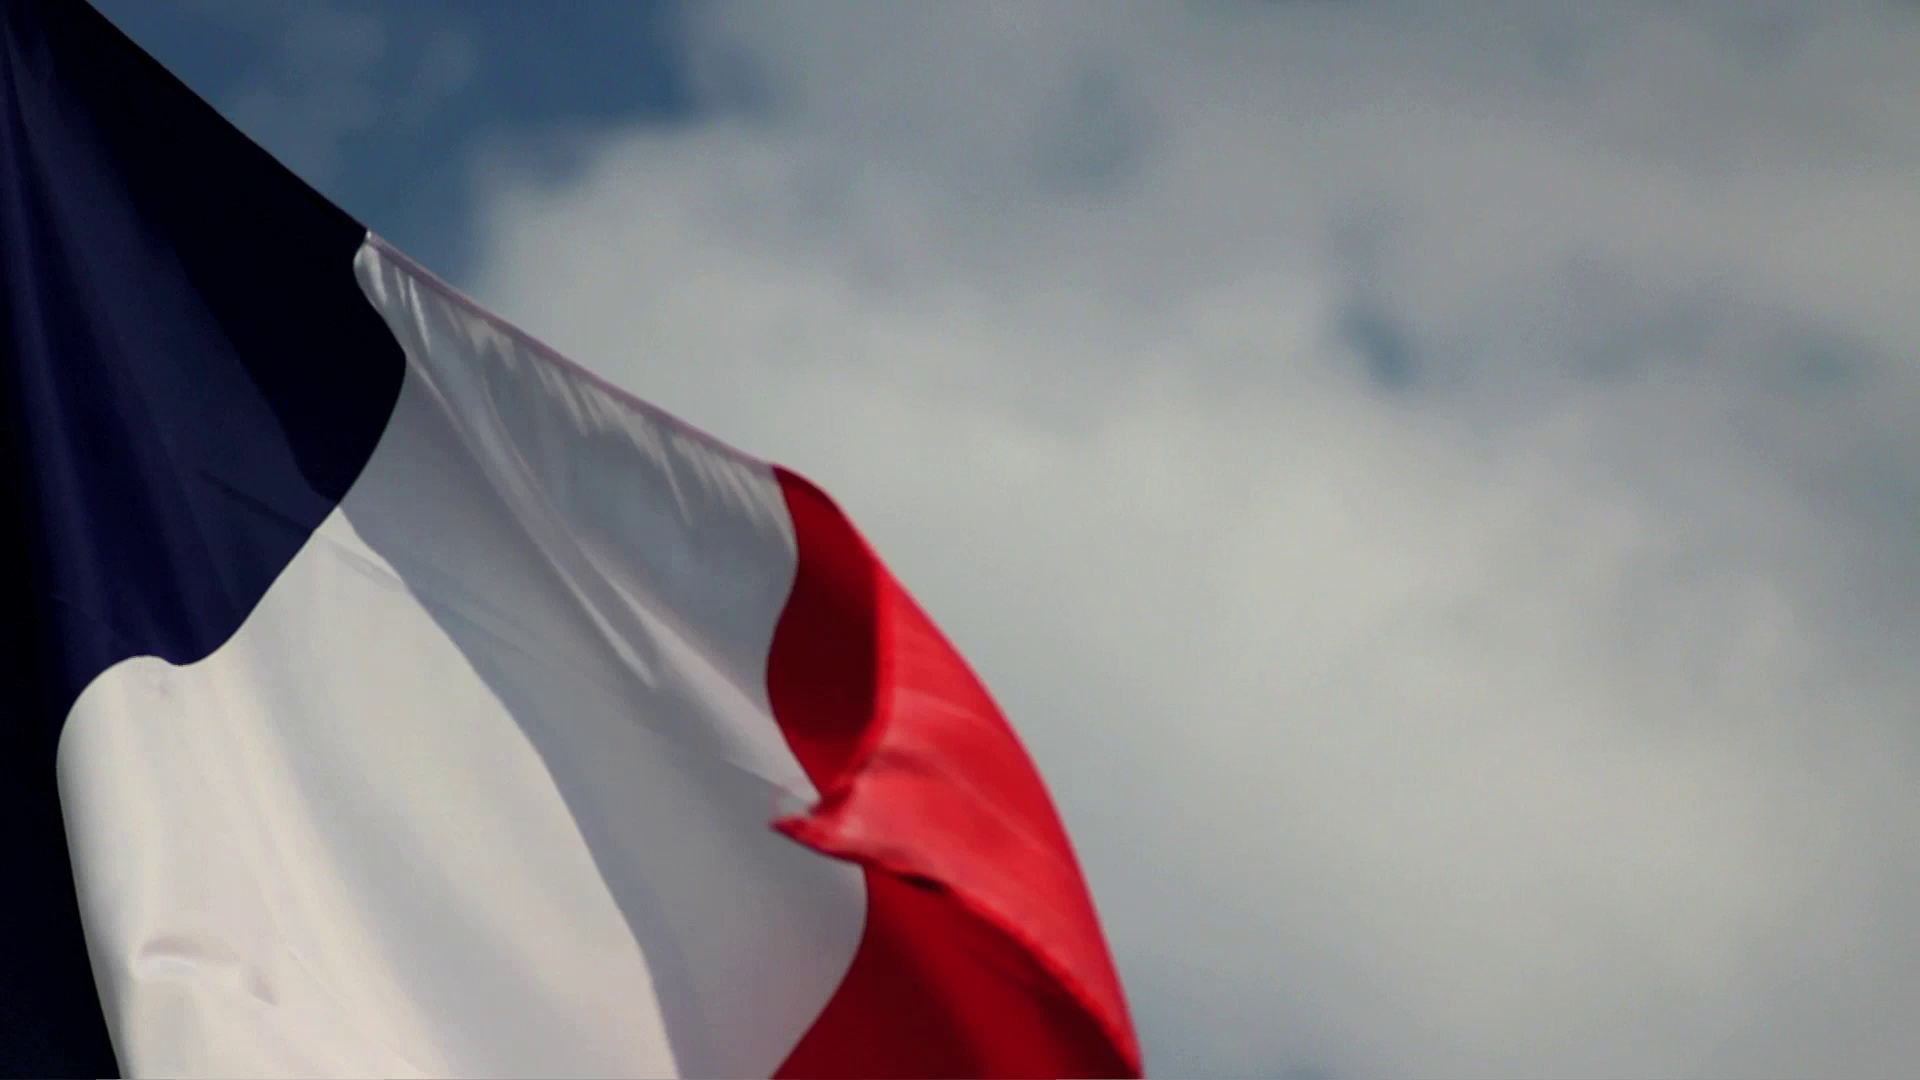French Flag: (1, 1, 1153, 1080)
